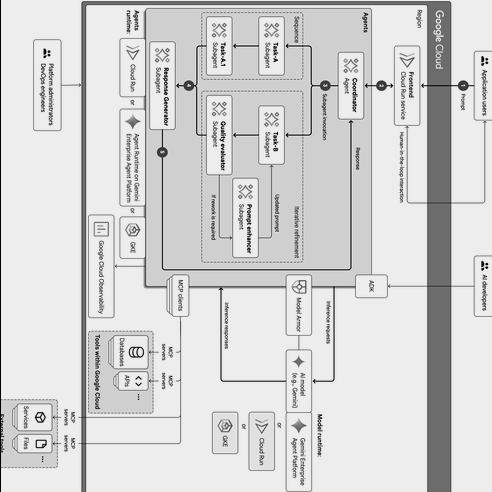actor: (32, 40, 60, 132), (471, 46, 492, 125), (471, 255, 492, 318)
compute: (388, 46, 421, 126), (150, 43, 178, 130), (338, 52, 366, 120), (284, 350, 312, 412), (258, 16, 286, 74), (206, 16, 234, 74), (258, 105, 286, 163), (206, 105, 234, 163), (232, 188, 260, 246), (258, 454, 286, 492), (168, 274, 191, 319)
data_flow: (165, 256, 349, 259), (162, 134, 165, 258), (198, 46, 202, 134), (348, 169, 352, 256), (405, 202, 482, 206), (128, 368, 131, 465), (312, 38, 315, 134), (382, 285, 471, 288), (219, 290, 222, 374), (232, 285, 314, 288), (403, 130, 406, 206), (59, 84, 110, 88), (424, 84, 470, 88), (38, 416, 130, 418), (38, 442, 130, 444), (326, 138, 329, 193), (332, 293, 334, 372), (327, 192, 373, 195), (128, 420, 131, 466), (113, 264, 144, 268), (220, 380, 281, 382), (284, 132, 313, 136), (220, 168, 256, 171), (270, 160, 273, 191), (314, 84, 337, 88), (234, 132, 257, 136), (284, 44, 313, 47), (366, 84, 386, 88), (177, 84, 197, 88), (323, 370, 343, 374), (234, 44, 257, 47), (218, 147, 221, 170), (254, 182, 257, 205), (153, 350, 176, 353), (259, 190, 284, 192), (297, 326, 300, 342), (153, 380, 176, 382), (178, 317, 181, 332), (198, 132, 206, 136), (198, 44, 206, 47)
database_storage: (113, 335, 148, 368), (16, 402, 52, 430), (16, 434, 52, 456), (113, 370, 148, 392)
network_security: (90, 214, 114, 318), (119, 110, 142, 207), (284, 422, 312, 480), (287, 276, 310, 334), (119, 39, 142, 97), (250, 412, 272, 470), (213, 411, 236, 457), (119, 216, 142, 258), (354, 274, 387, 299)
trust_boundary: (81, 1, 450, 492), (86, 3, 434, 492), (146, 2, 373, 284), (200, 92, 304, 266), (200, 11, 304, 80), (86, 331, 156, 415), (0, 397, 60, 466)
